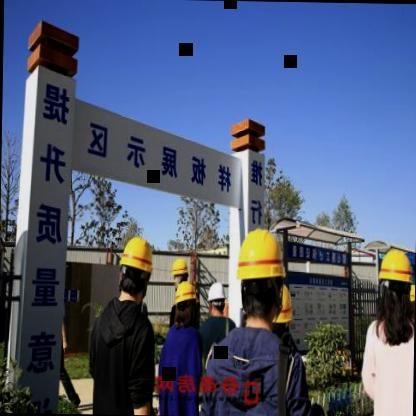helmet: (235, 223, 286, 327), (116, 230, 154, 302), (379, 247, 413, 312), (170, 278, 199, 326), (206, 280, 226, 318), (169, 256, 189, 286)
